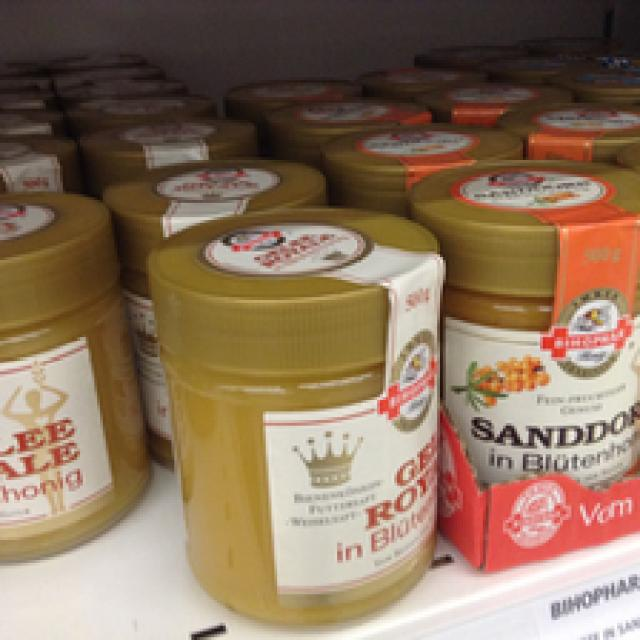groceries: (143, 209, 446, 617), (414, 163, 637, 531), (0, 186, 143, 571)
